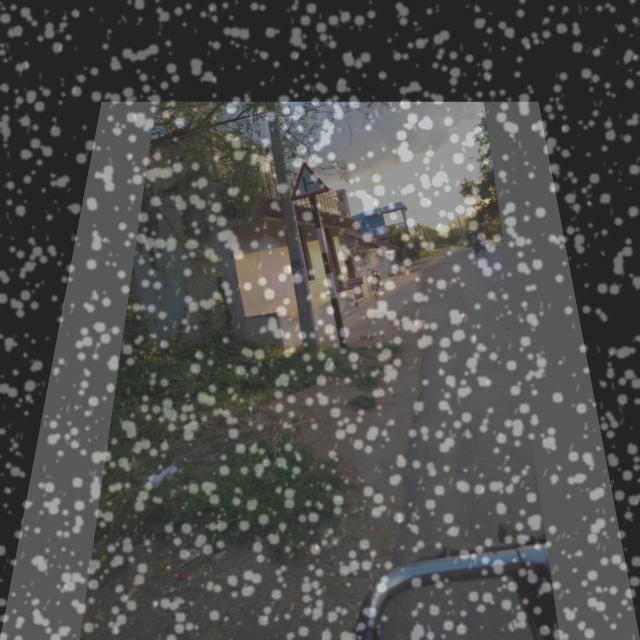Side_Road_Right: (286, 159, 333, 202)
